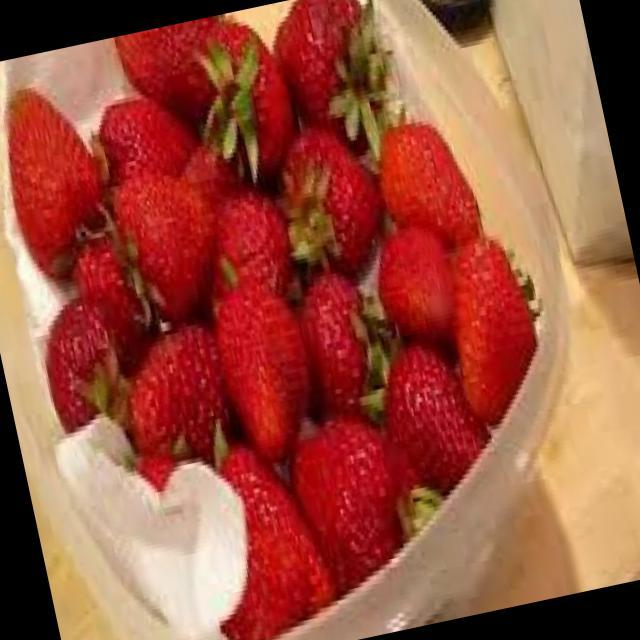strawberries: (0, 0, 593, 640)
